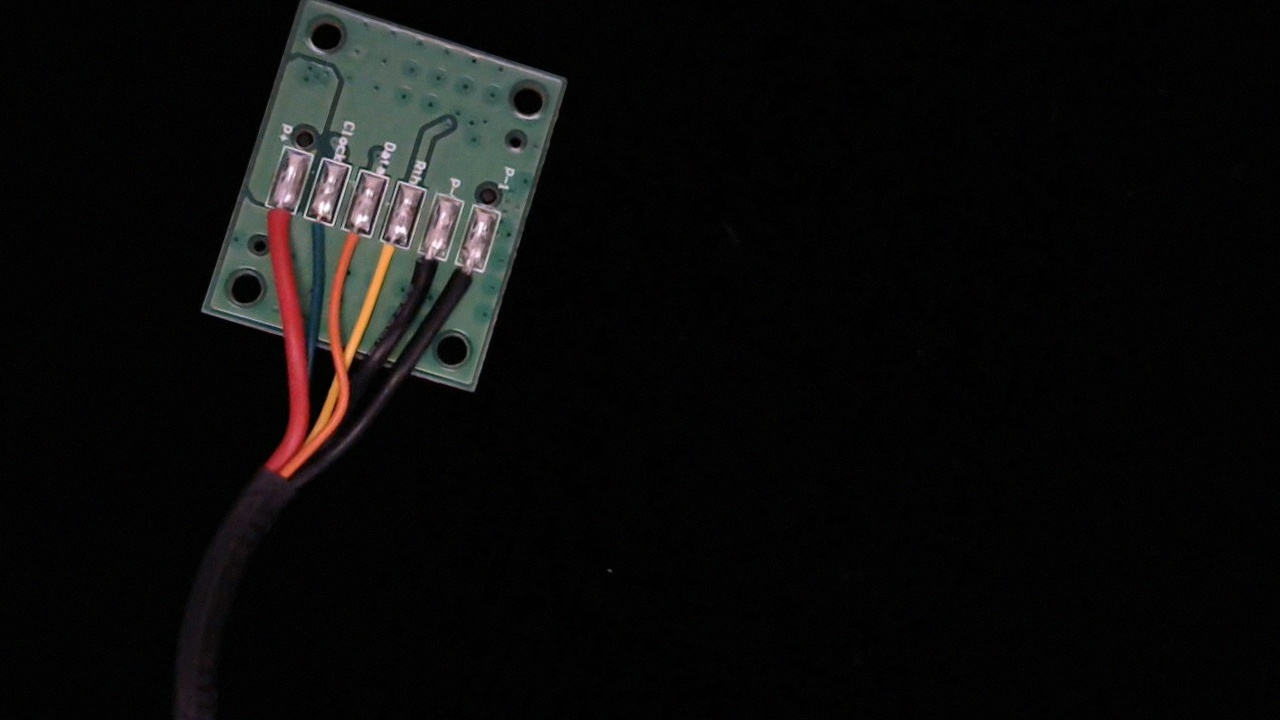Black: (401, 229, 455, 308)
Black1: (439, 241, 491, 315)
Green: (290, 193, 343, 270)
Orange: (326, 206, 378, 284)
Red: (249, 180, 303, 258)
Yellow: (362, 217, 417, 297)
